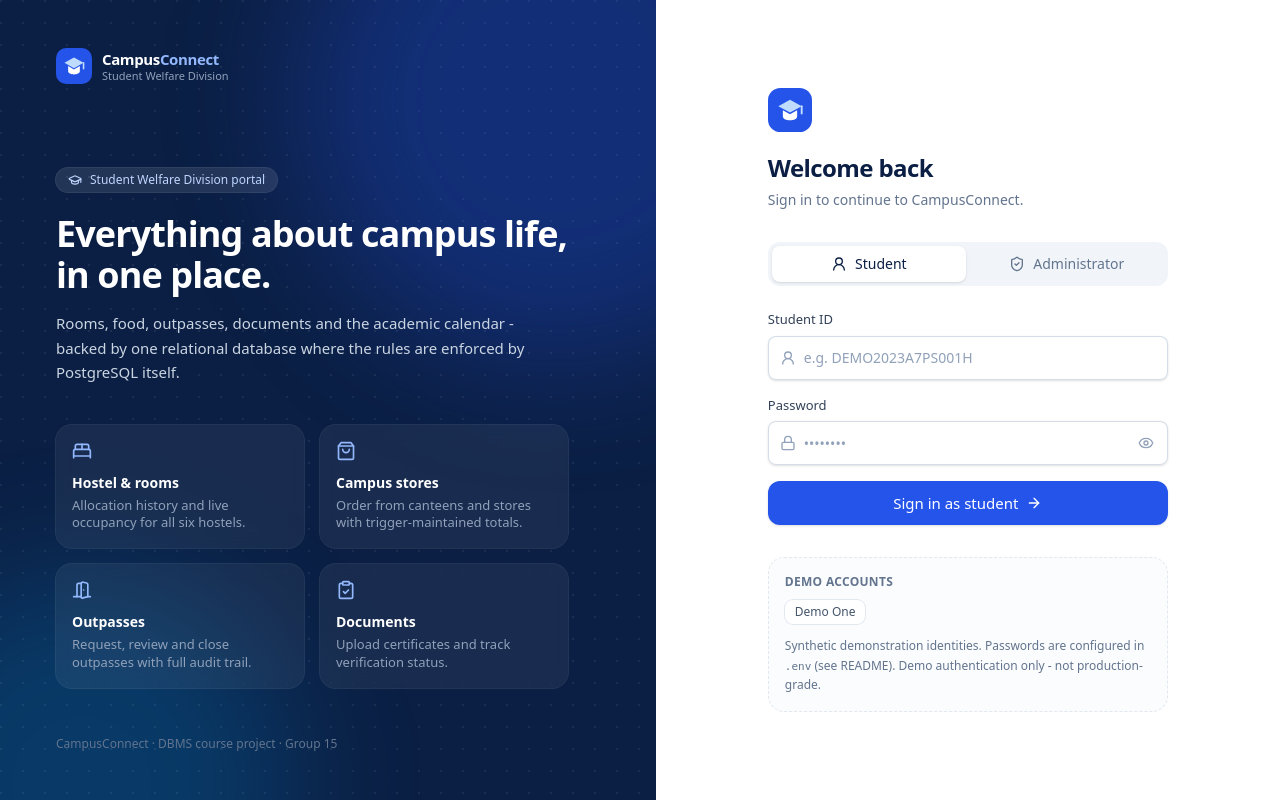
Login page › shows the server error for bad credentials
This screenshot has width=1280, height=800.
In the field labelled "Student ID": (968, 358) [768,336,1168,380], type "DEMO1"
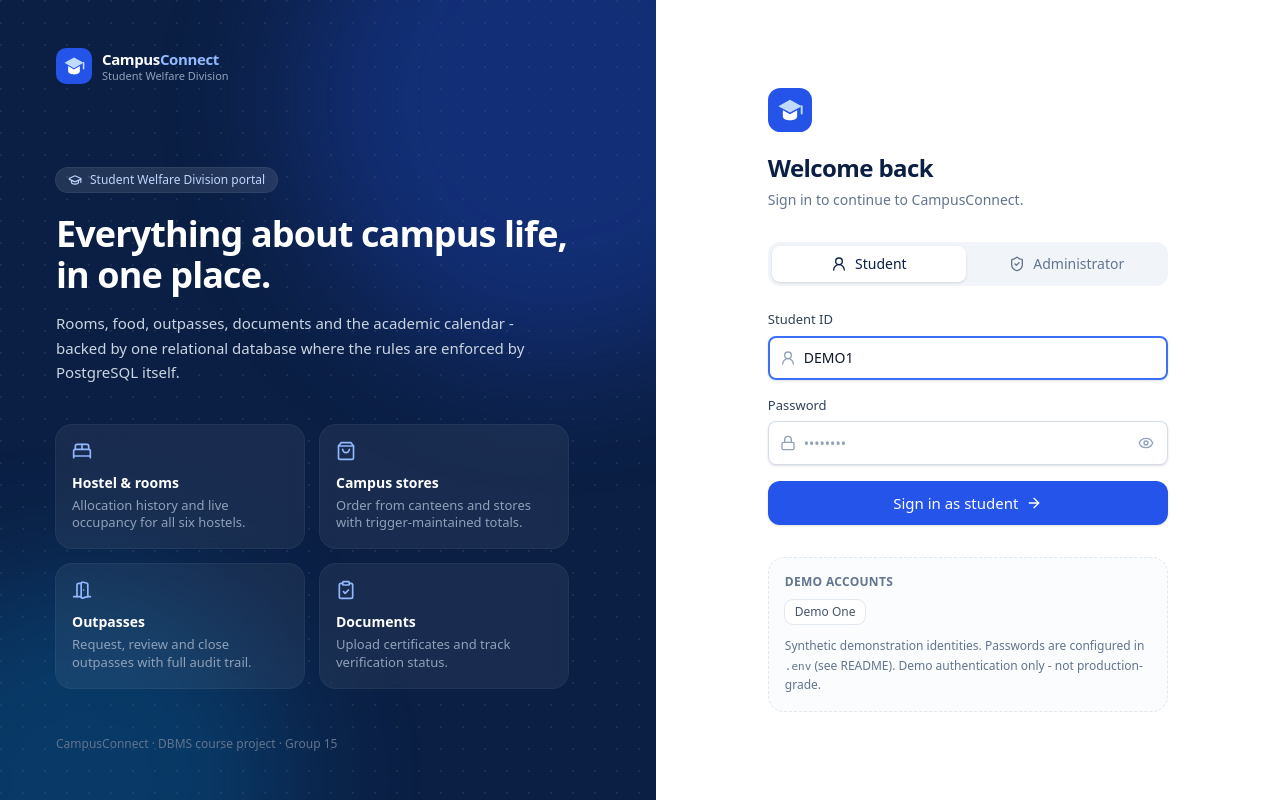
In the password field labelled "Password": (968, 443) [768,421,1168,465], type "wrong"
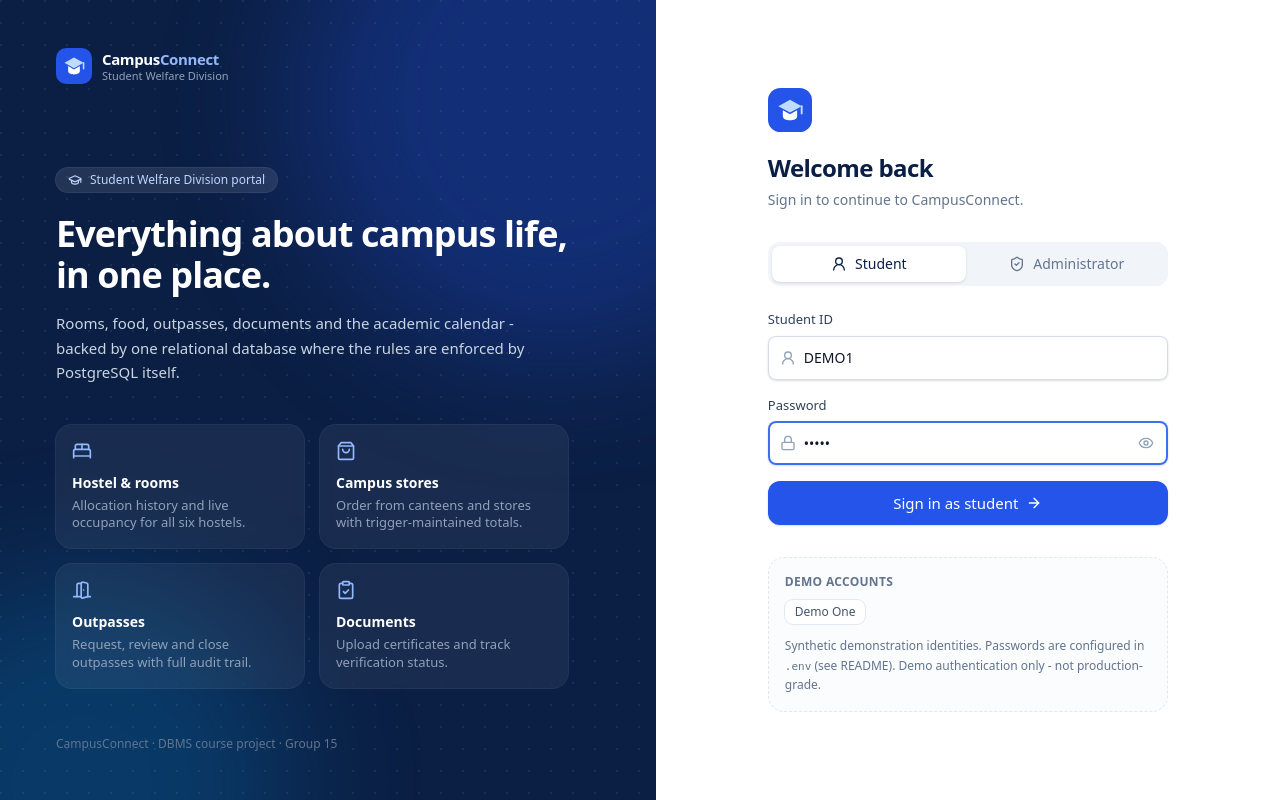
Click the button "Sign in as student": (968, 503) [768,481,1168,525]
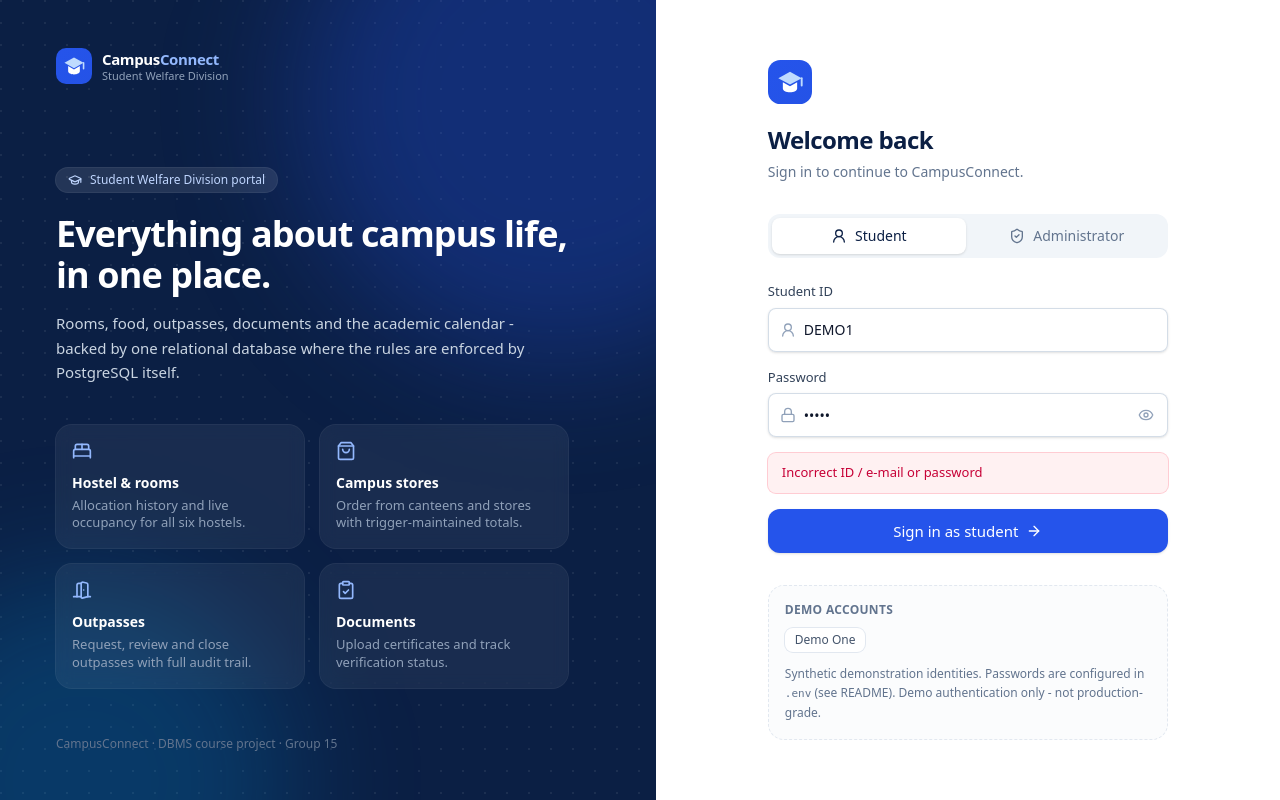
Expected: the message reads "Incorrect ID / e-mail or password", [782,463,983,481]
